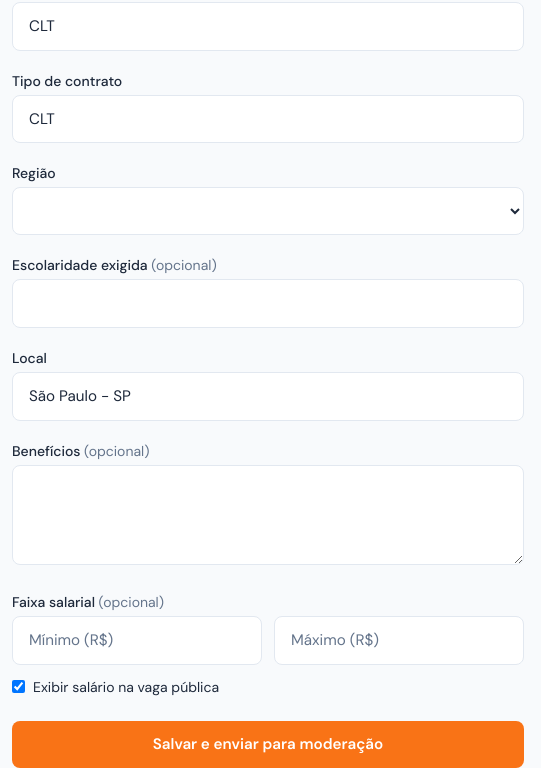
Test case: JobEditForm — mode="active-edit" (USP-023, default, comportamento existente) › submit: encadeia editJob → submitJobForModeration e mostra a mensagem de moderação
The image size is (541, 768).
(page scrolled)
Click the button "Salvar e enviar para moderação".
click(268, 744)  # box [12, 721, 524, 767]
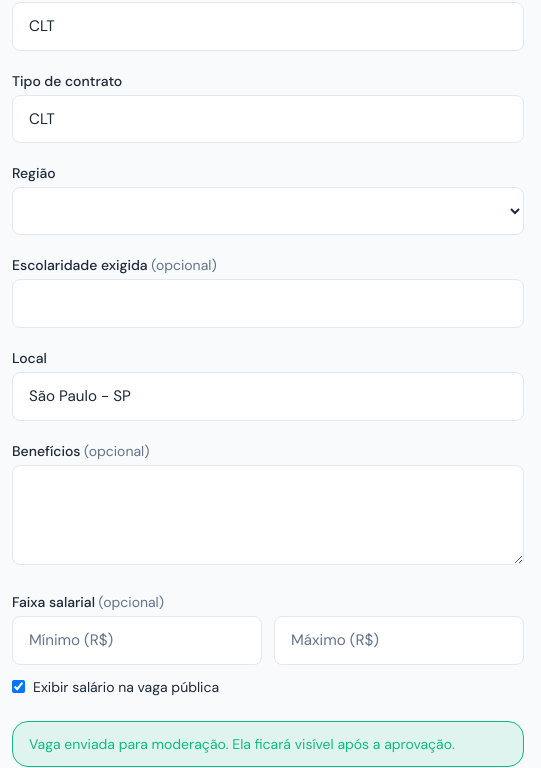
Check: the message shows "enviada para moderação", box [29, 735, 455, 753]
